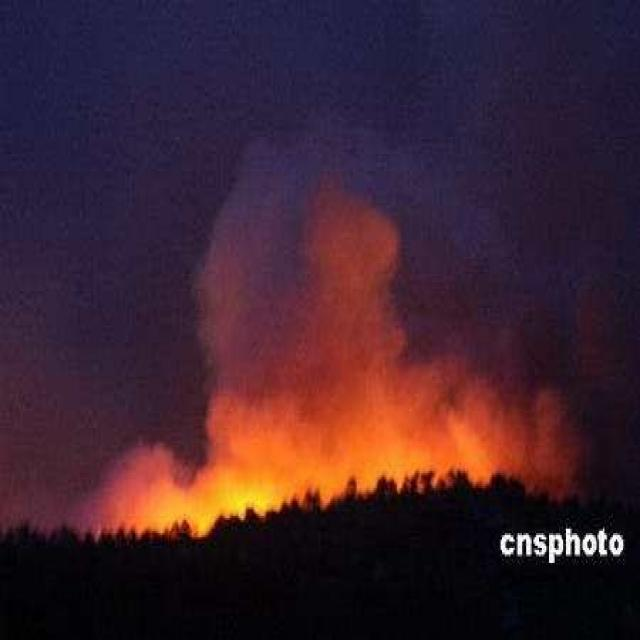fire: (105, 396, 549, 537)
